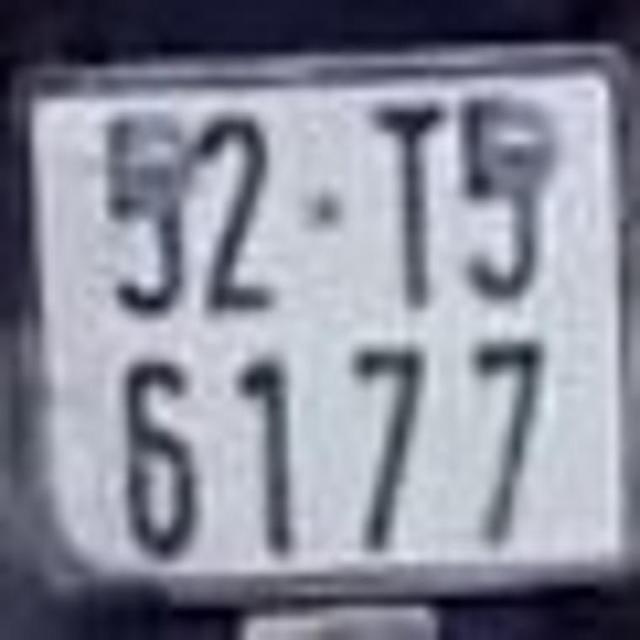1: (236, 354, 300, 557)
2: (198, 110, 279, 316)
5: (101, 110, 188, 317), (458, 94, 544, 300)
6: (122, 355, 201, 558)
7: (348, 338, 427, 554), (469, 334, 545, 547)
T: (368, 100, 447, 309)
